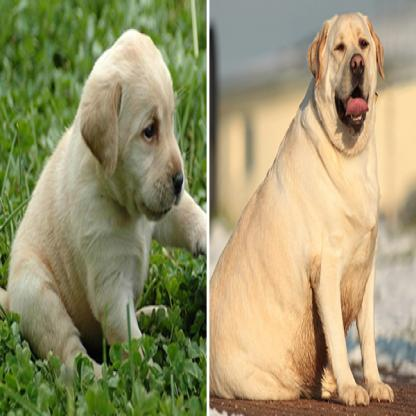dog: (201, 7, 390, 404), (2, 34, 207, 385)
